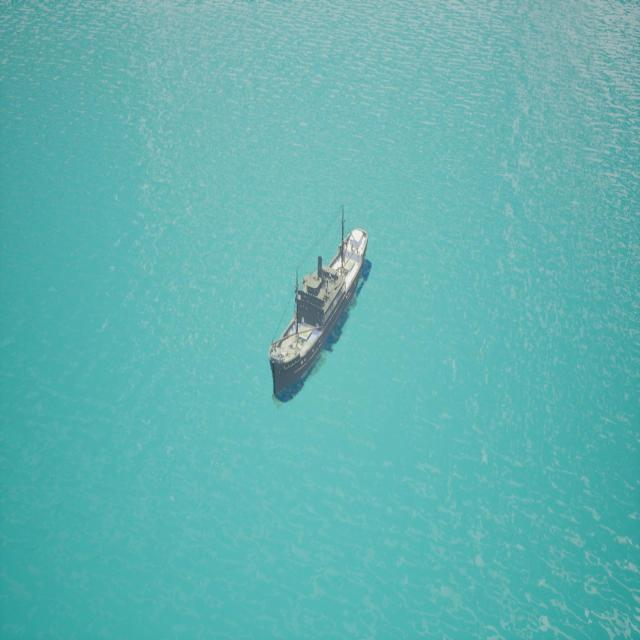fishing ship: (269, 230, 372, 403)
